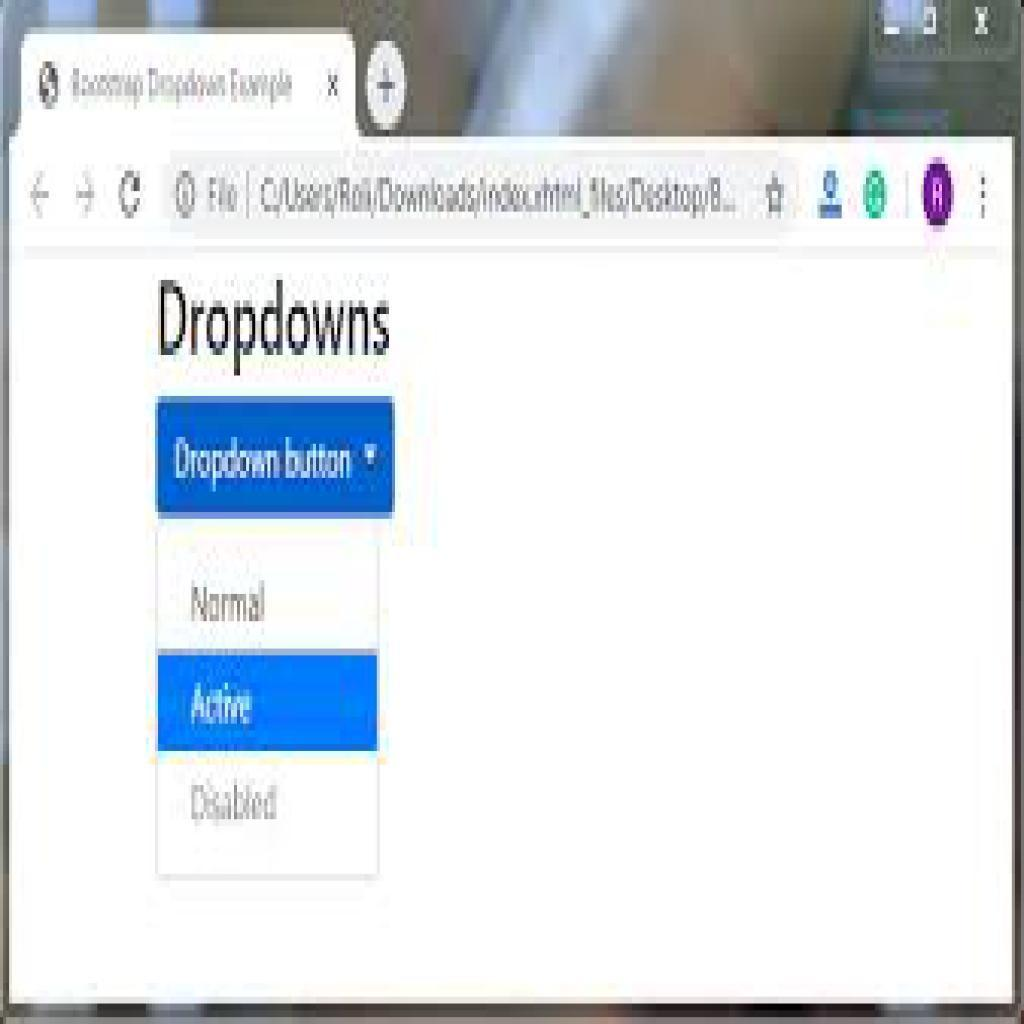dropdown: (157, 400, 395, 515)
